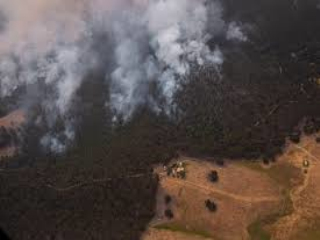smoke: (148, 7, 225, 127), (30, 45, 85, 159), (107, 23, 149, 123)
